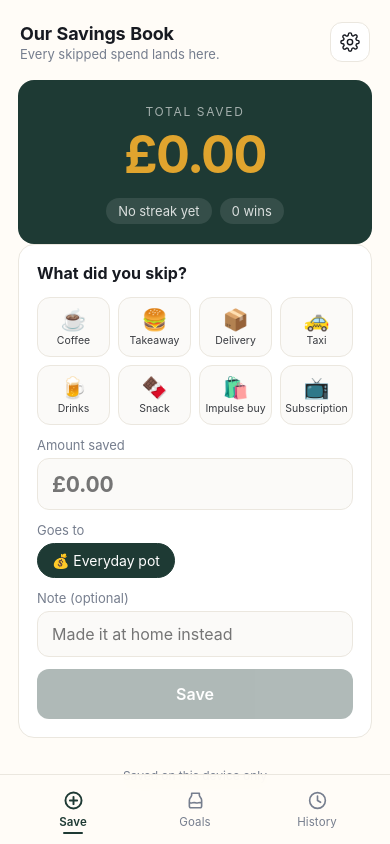
uygulama açılışı › hedefler sekmesine geçilir
Click the button "Goals": (195, 808) [134, 781, 256, 834]
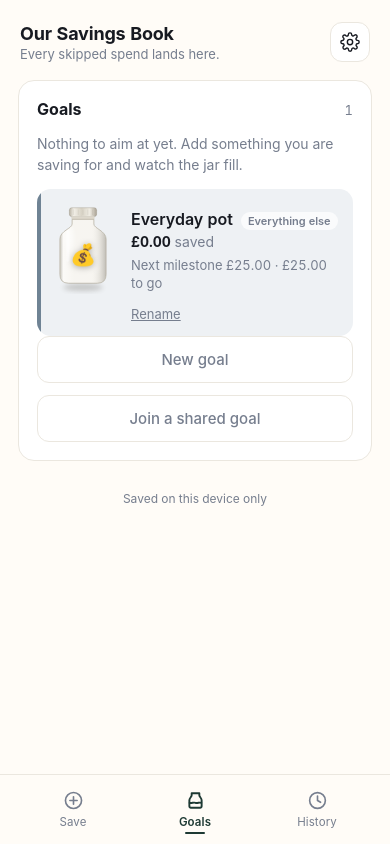
Result: the text "Everyday pot" is shown at [131, 209, 233, 229]
